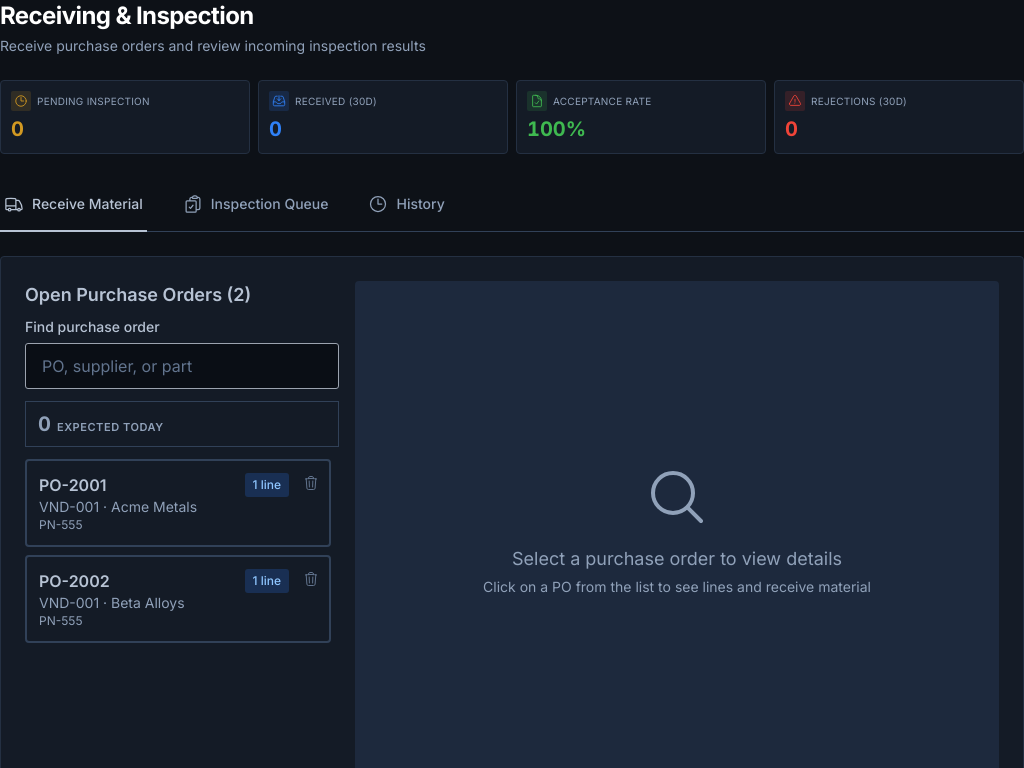
Test: Receiving — deleting an open PO › confirms with THAT card's id, toasts success, and re-pulls the open-PO list
This screenshot has width=1024, height=768.
Expected: the text "PO-2002" is shown, [39,571,110,591]
Click the button named "Delete purchase order PO-2002". click: (311, 579)
box: [297,565,325,593]
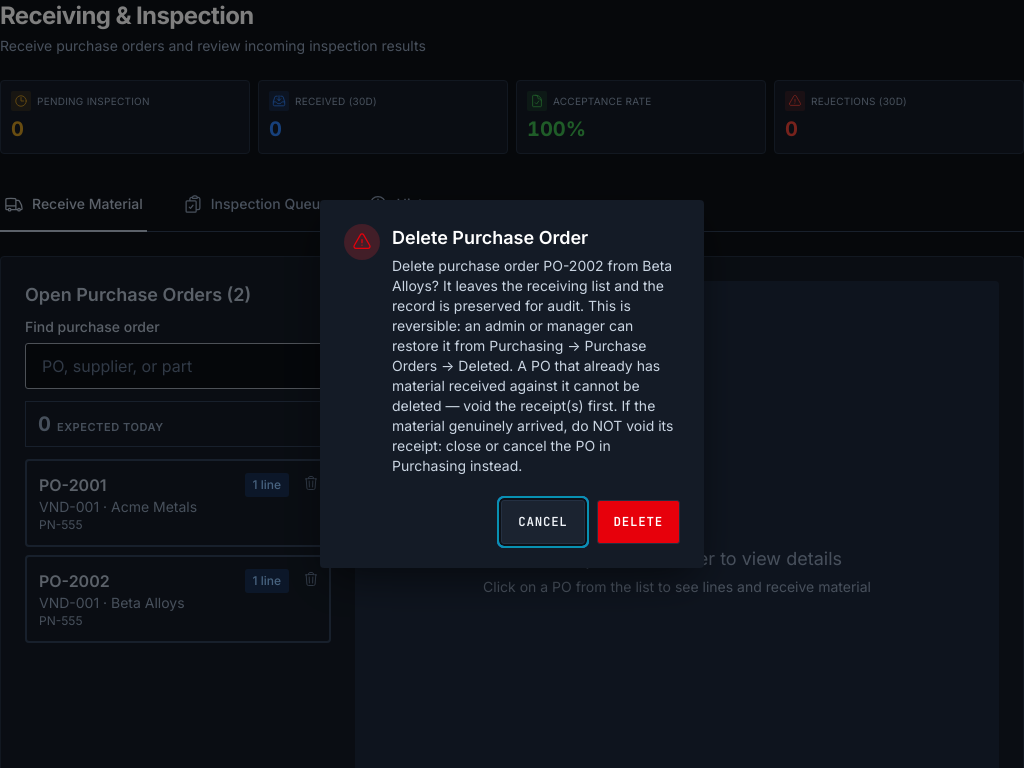
Click the button "Delete". click: (638, 522)
box: [597,500,680,544]
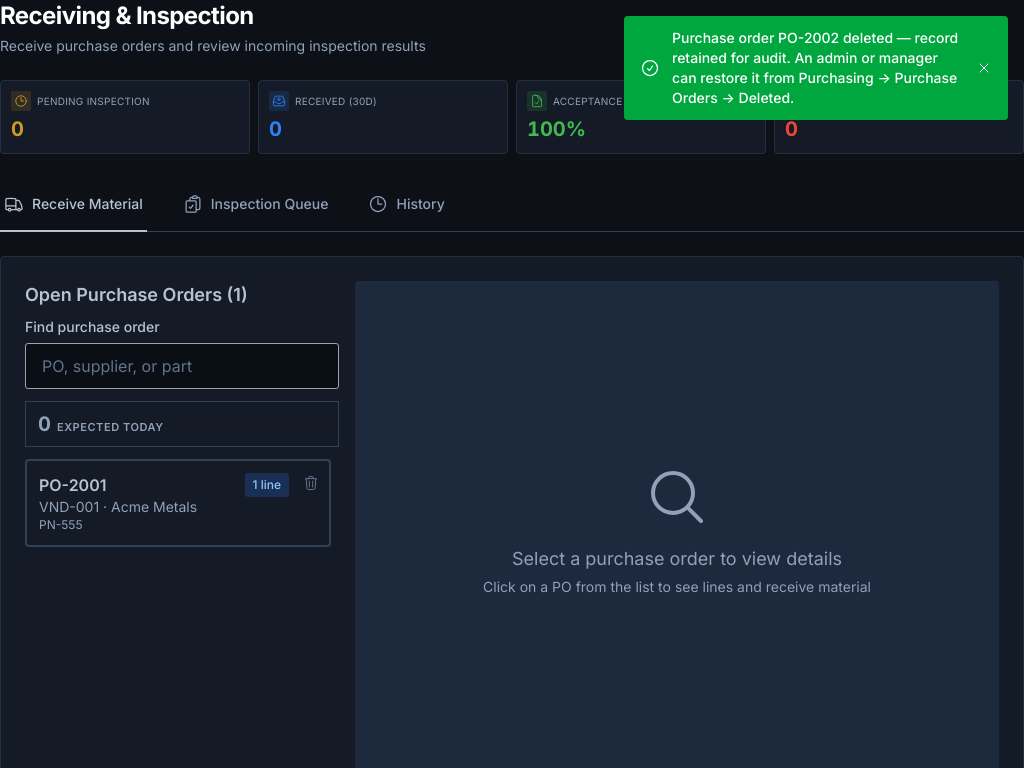
Expected: the text "Purchase order PO-2002 deleted" shows "Purchasing → Purchase Orders → Deleted", [672,29,958,106]
Expected: the text "Purchase order PO-2002 deleted" shows "an admin or manager can restore it", [672,29,958,106]
Expected: the dialog is gone
